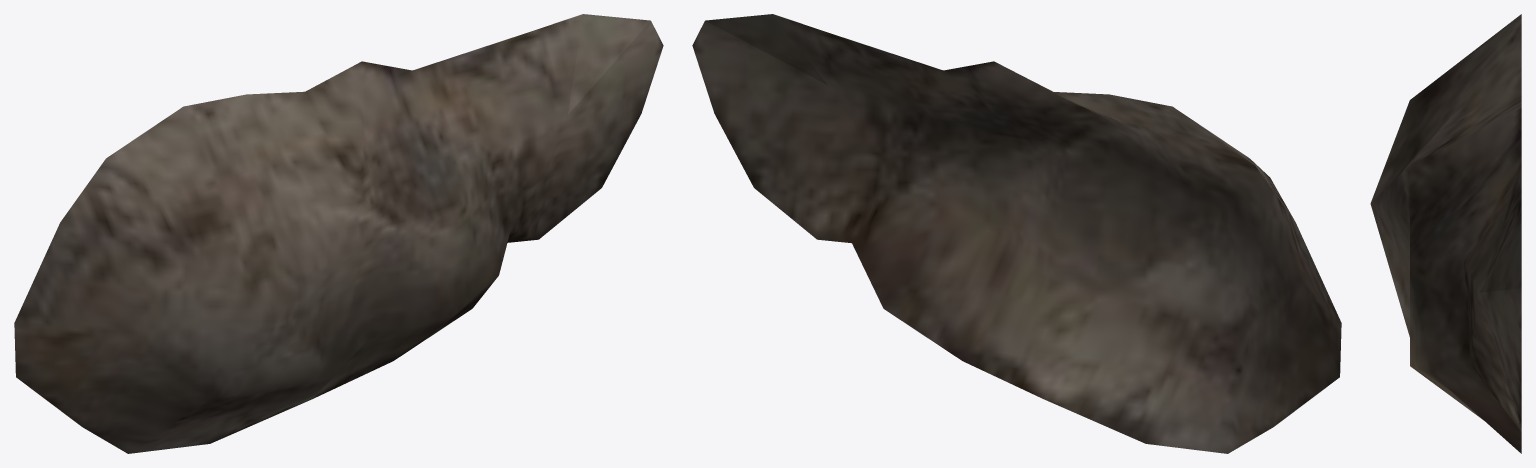
The model's file is prop_toujane_roadrock6.glb.
3 views of the same model, side by side, from view 1: azimuth 30°, elevation 25°; view 2: azimuth 150°, elevation 25°; view 3: azimuth 270°, elevation 25° (orthographic). The views are drawn at different scales.
Size of the model in its own units: 22.56 by 11.47 by 4.32.
Materials: 1 (1 with a texture image).
